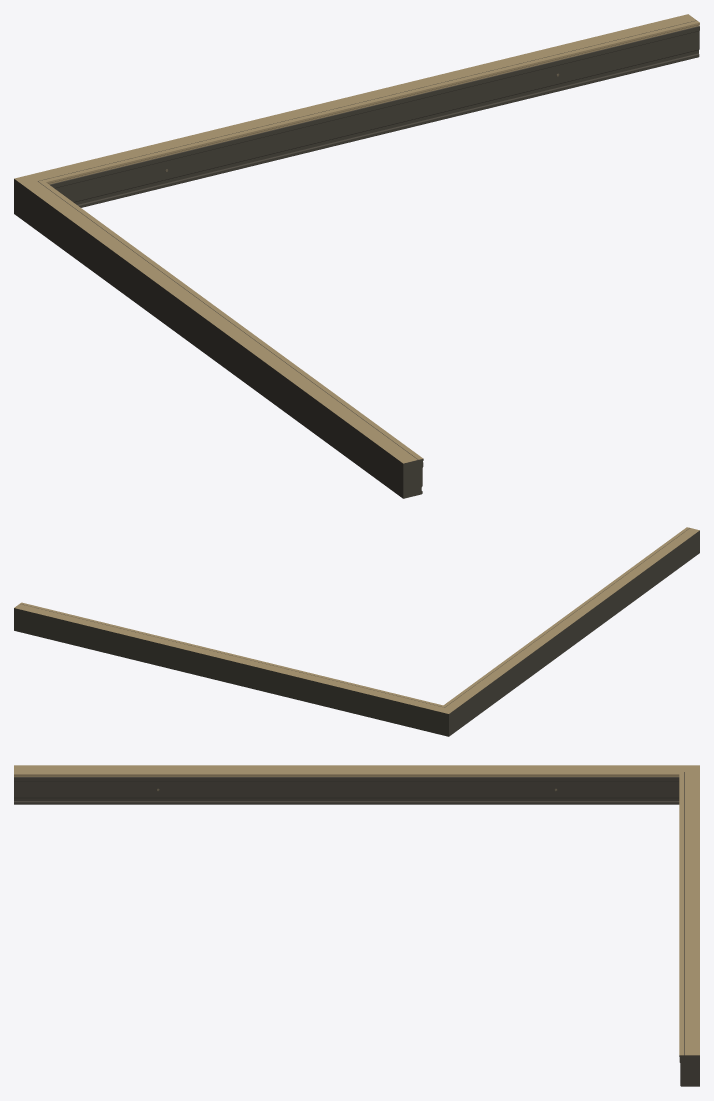
The model's file is mall-floor-inside-mitre-2m.glb.
The picture shows the model from 3 angles, top to bottom: view 1: azimuth 30°, elevation 25°; view 2: azimuth 150°, elevation 25°; view 3: azimuth 270°, elevation 25°; orthographic projection. The views are drawn at different scales.
Visible parts, largest first — view 1: Welded inside mitre LOD0; view 2: Welded inside mitre LOD0; view 3: Welded inside mitre LOD0.
Part boxes in pixels (box(x1,y1,x2,y2)): Welded inside mitre LOD0: box(14, 14, 699, 498); Welded inside mitre LOD0: box(14, 527, 699, 736); Welded inside mitre LOD0: box(14, 765, 699, 1086).
Bounding box in the file's own units: 2 × 0.1 × 2.
